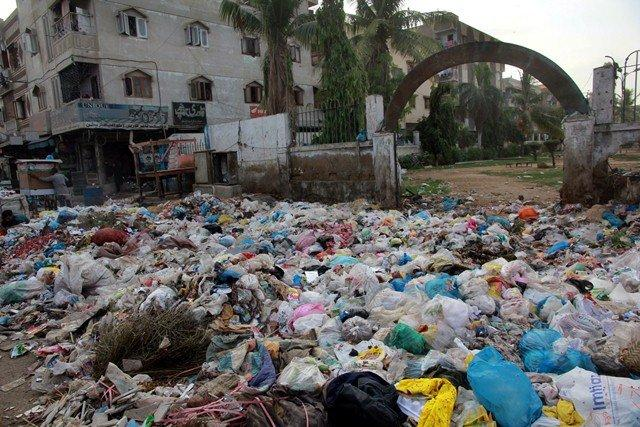garbage: (0, 192, 640, 427)
